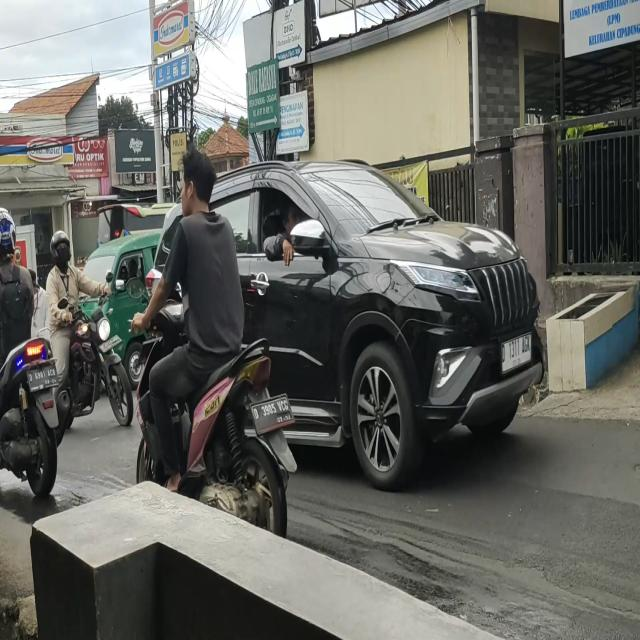helmet: (51, 231, 72, 273), (0, 205, 16, 260)
no-helmet: (180, 155, 216, 213)
